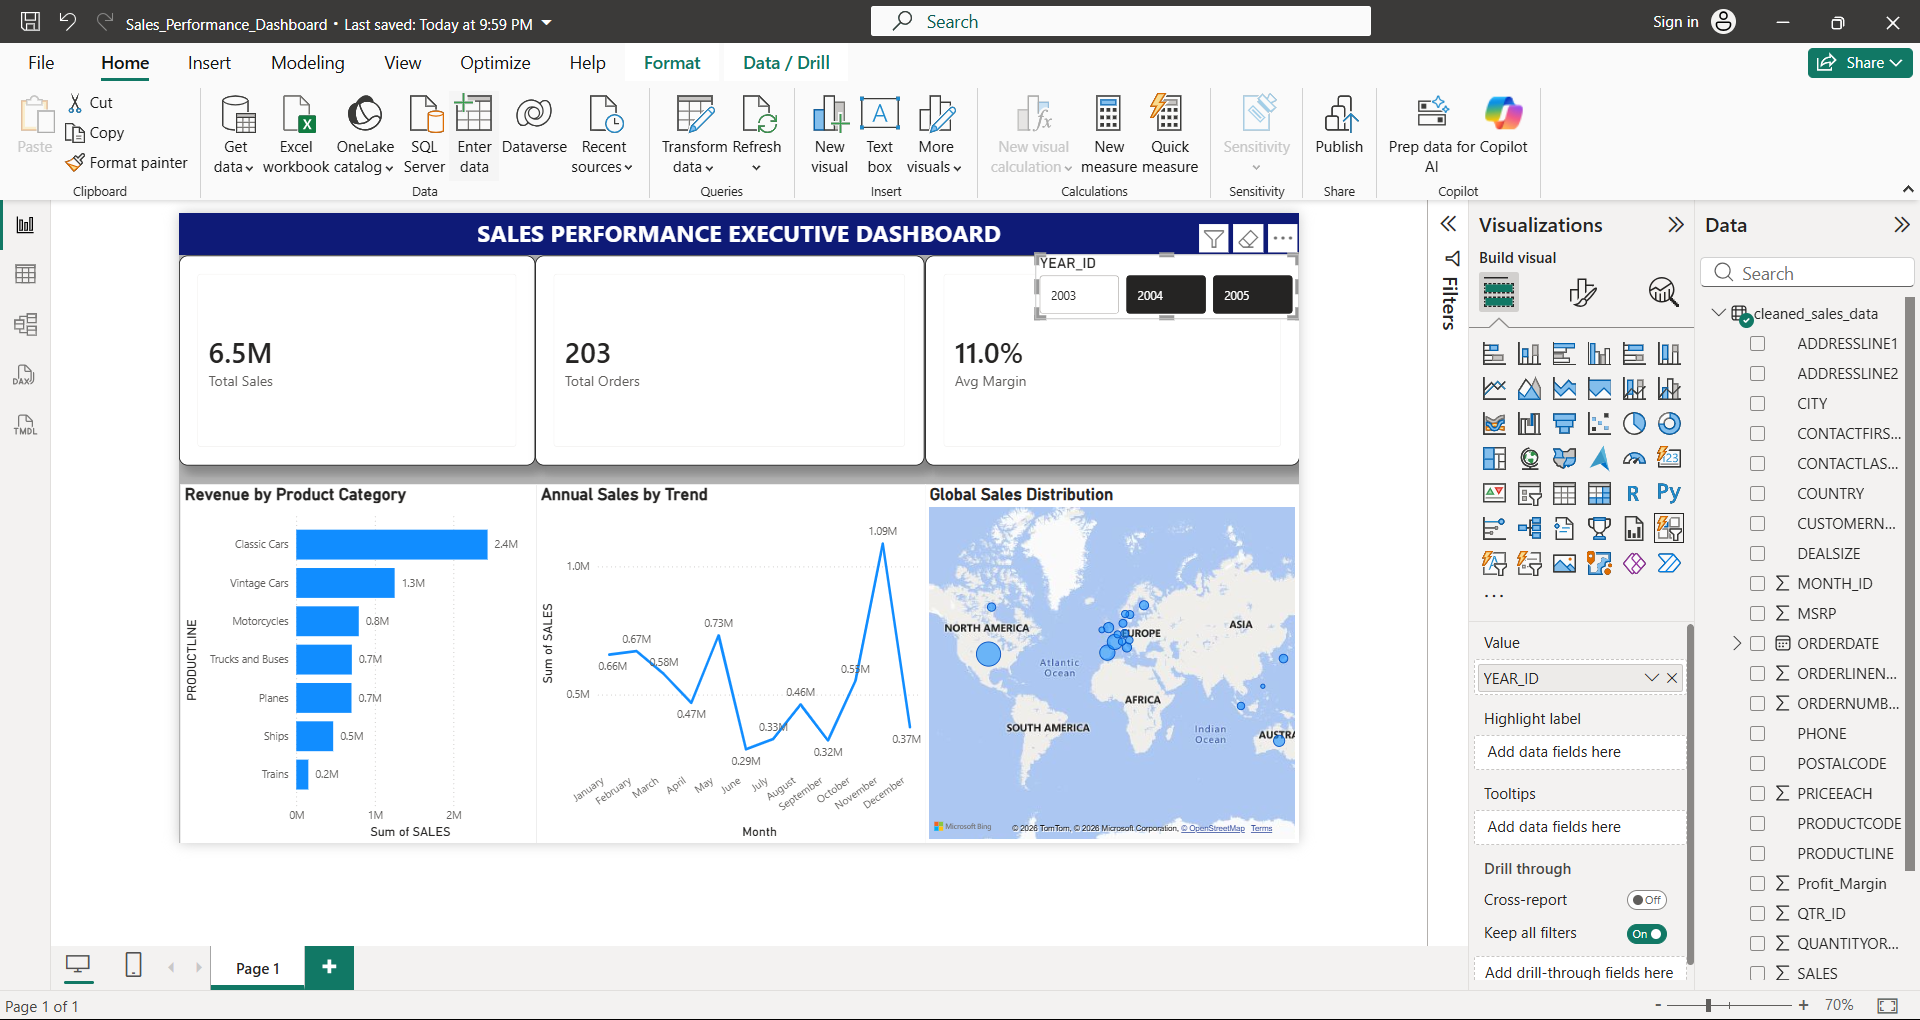

This screenshot's page, from the dashboard's own definition file:
{"tool":"powerbi","page":{"name":"Page 1","canvas":[1280,720],"ordinal":0},"visuals":[{"type":"shape","box":[0,0,1280.3,48],"z":0},{"type":"textbox","box":[0,0,1280.3,48],"z":1000},{"type":"cardVisual","fields":{"Data":["Sum(cleaned_sales_data.SALES)"]},"box":[0,48,407.5,240.1],"z":2000},{"type":"cardVisual","fields":{"Data":["Count(cleaned_sales_data.ORDERNUMBER)"]},"box":[407.5,48,444.6,240.1],"z":3000},{"type":"cardVisual","fields":{"Data":["Avg(cleaned_sales_data.Profit_Margin)"]},"box":[852.1,48,428.1,240.1],"z":4000},{"type":"lineChart","title":"Annual Sales by Trend","fields":{"Category":["cleaned_sales_data.ORDERDATE.Variation.Date Hierarchy.Year","cleaned_sales_data.ORDERDATE.Variation.Date Hierarchy.Quarter","cleaned_sales_data.ORDERDATE.Variation.Date Hierarchy.Month","cleaned_sales_data.ORDERDATE.Variation.Date Hierarchy.Day"],"Y":["Sum(cleaned_sales_data.SALES)"]},"box":[408.9,310.1,444.6,410.3],"z":5000},{"type":"clusteredBarChart","title":"Revenue by Product Category","fields":{"Category":["cleaned_sales_data.PRODUCTLINE"],"Y":["Sum(cleaned_sales_data.SALES)"]},"box":[1.4,310.1,407.5,410.3],"z":6000},{"type":"map","title":"Global Sales Distribution","fields":{"Category":["cleaned_sales_data.COUNTRY"],"Size":["Sum(cleaned_sales_data.SALES)"]},"box":[853.5,310.1,426.8,410.3],"z":7000},{"type":"advancedSlicerVisual","fields":{"Values":["cleaned_sales_data.YEAR_ID"]},"box":[978.4,46.7,301.9,74.1],"z":8000}]}

Visuals, with their boxes on the page's 1280x720 design canvas (x1, y1, x2, y2). These are canvas units, not pixel positions in the 1920x1020 screenshot, which may show the page scaled, cropped or inside an application window:
shape: 0 0 1280 48
textbox: 0 0 1280 48
cardVisual - Sum(cleaned_sales_data.SALES): 0 48 408 288
cardVisual - Count(cleaned_sales_data.ORDERNUMBER): 408 48 852 288
cardVisual - Avg(cleaned_sales_data.Profit_Margin): 852 48 1280 288
"Annual Sales by Trend" lineChart: 409 310 854 720
"Revenue by Product Category" clusteredBarChart: 1 310 409 720
"Global Sales Distribution" map: 854 310 1280 720
advancedSlicerVisual - cleaned_sales_data.YEAR_ID: 978 47 1280 121
